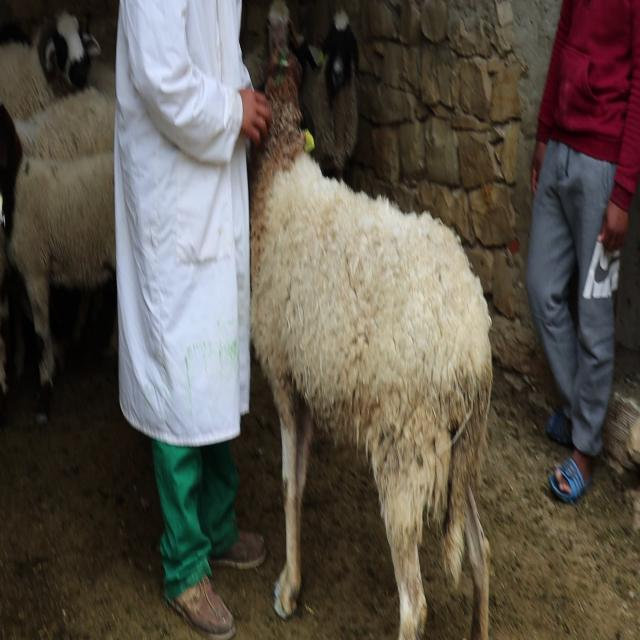Score_2: (250, 0, 492, 639)
